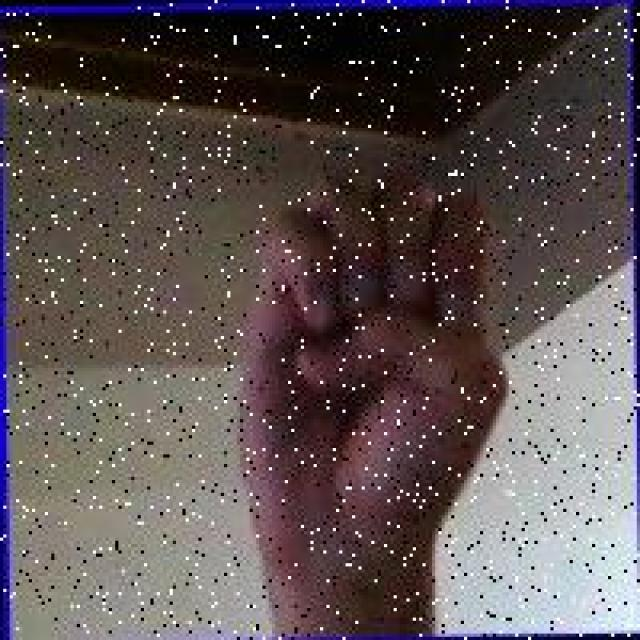E: (238, 155, 517, 590)
